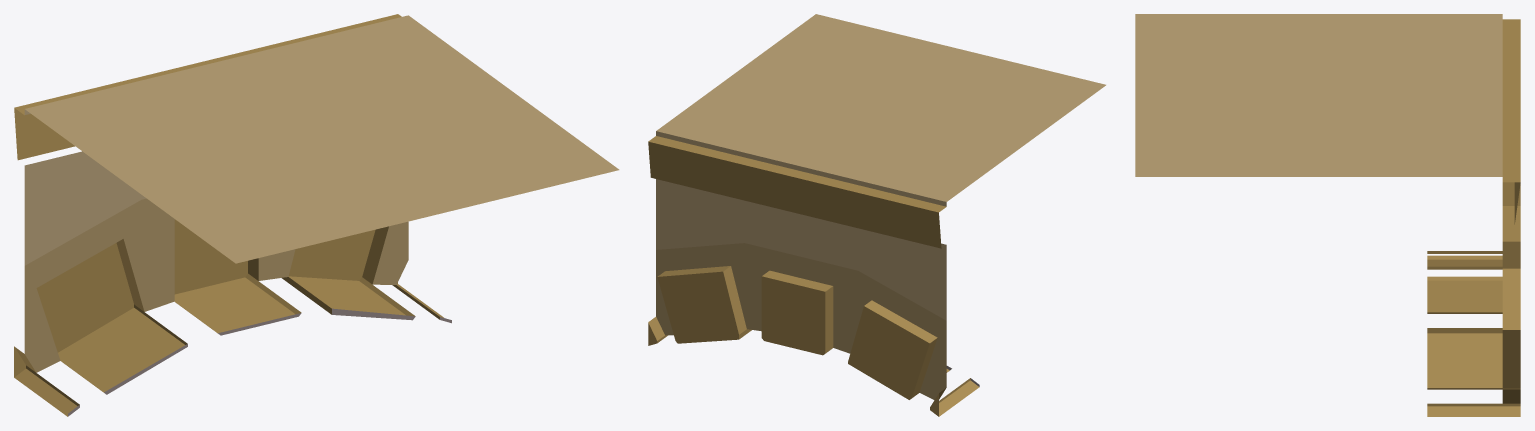
3 views of the same model, side by side, from view 1: azimuth 30°, elevation 25°; view 2: azimuth 150°, elevation 25°; view 3: azimuth 270°, elevation 25° (orthographic). The views are drawn at different scales.
Bounding box in the file's own units: 1 × 0.6875 × 1.
